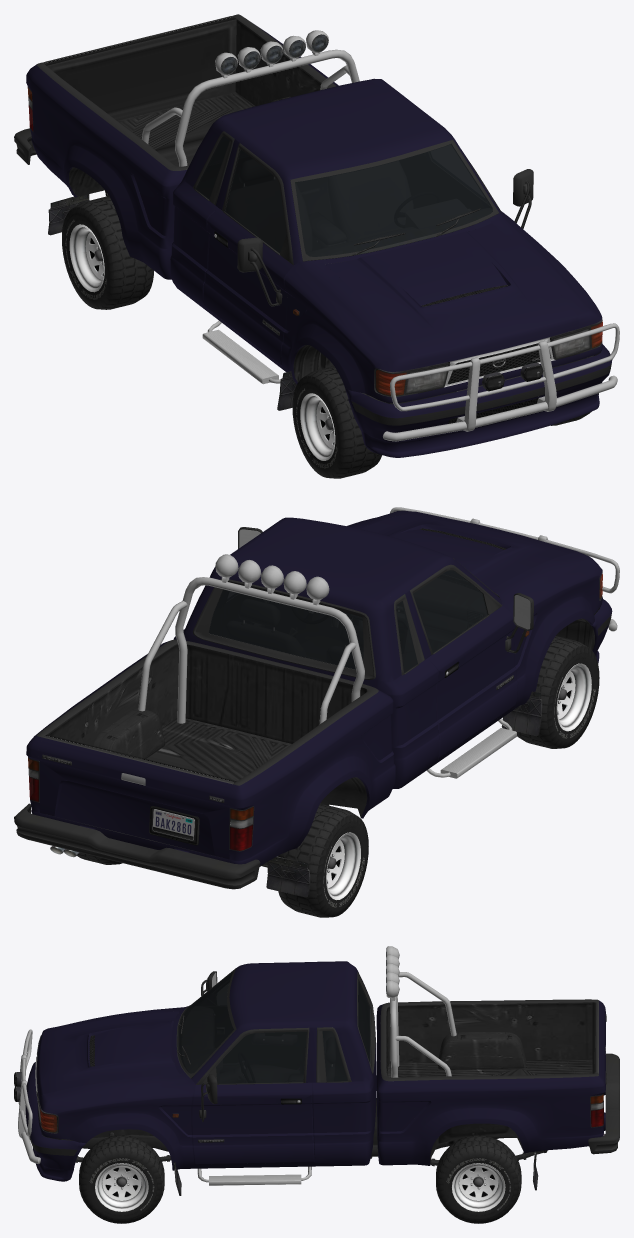
File: lightbody-lifted-85-low-poly-model-67beae.glb
The picture shows the model from 3 angles, top to bottom: view 1: azimuth 30°, elevation 25°; view 2: azimuth 150°, elevation 25°; view 3: azimuth 270°, elevation 25°; orthographic projection. The views are drawn at different scales.
Visible parts, largest first — view 1: body, wheel-back-right, wheel-front-right; view 2: body, wheel-back-right, wheel-front-right; view 3: body, wheel-back-left, wheel-front-left.
Part boxes in pixels (x1,y1,x2,y2): body: (14,14,619,457); wheel-back-right: (30,124,153,309); wheel-front-right: (262,292,382,478); body: (14,507,619,889); wheel-back-right: (230,804,368,917); wheel-front-right: (498,636,599,748); body: (14,946,619,1185); wheel-back-left: (436,1108,603,1223); wheel-front-left: (79,1110,208,1223).
Size of the model in its own units: 1.44 by 1.29 by 3.3.
Materials: 8 (7 with a texture image).
